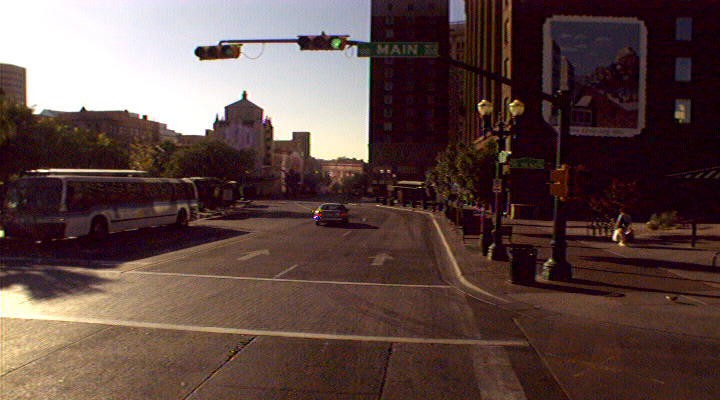Ramp: (441, 276, 720, 357)
